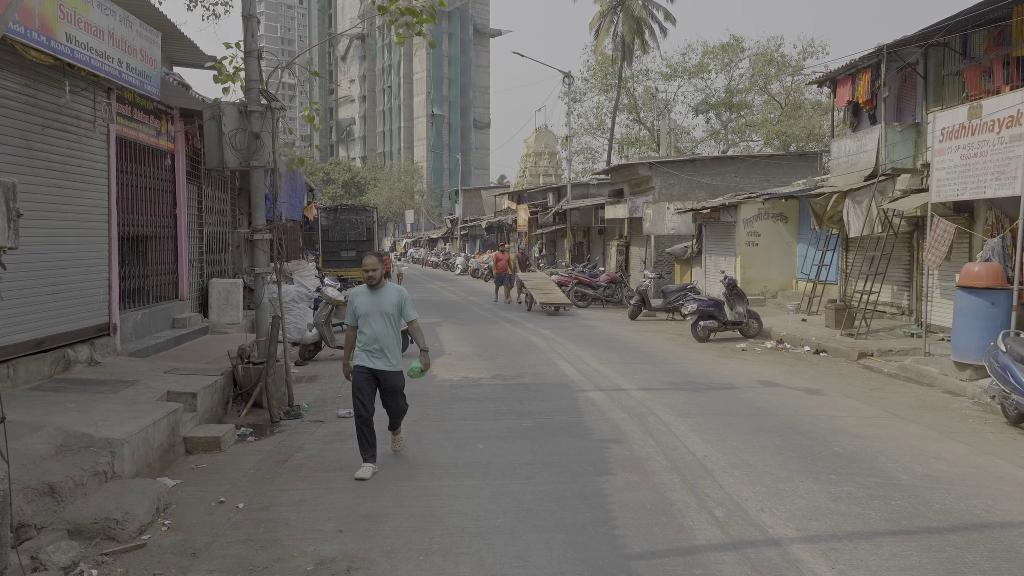garbage: (406, 355, 431, 382), (335, 406, 354, 420)
